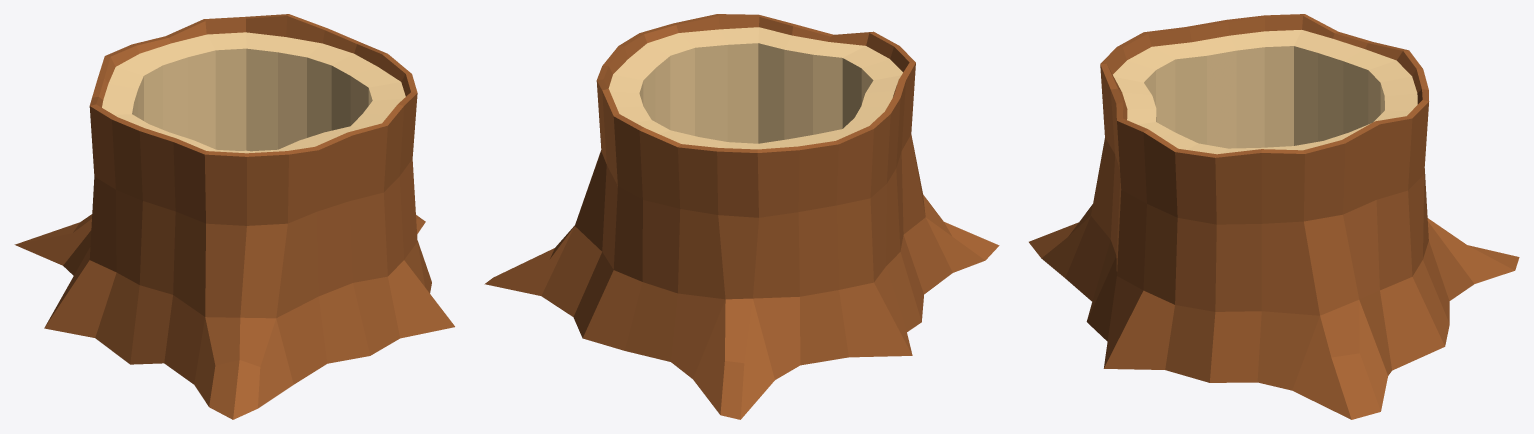
The model's file is Stump.fbx.
3 renders of one model, left to right at view 1: azimuth 30°, elevation 25°; view 2: azimuth 150°, elevation 25°; view 3: azimuth 270°, elevation 25°, orthographic. The views are drawn at different scales.
Visible parts, largest first — view 1: Stump; view 2: Stump; view 3: Stump.
Part boxes in pixels (<box>): Stump: <box>14,14,454,419</box>; Stump: <box>484,14,999,419</box>; Stump: <box>1029,14,1519,419</box>.
Size of the model in its own units: 3470 by 1934 by 3582.
